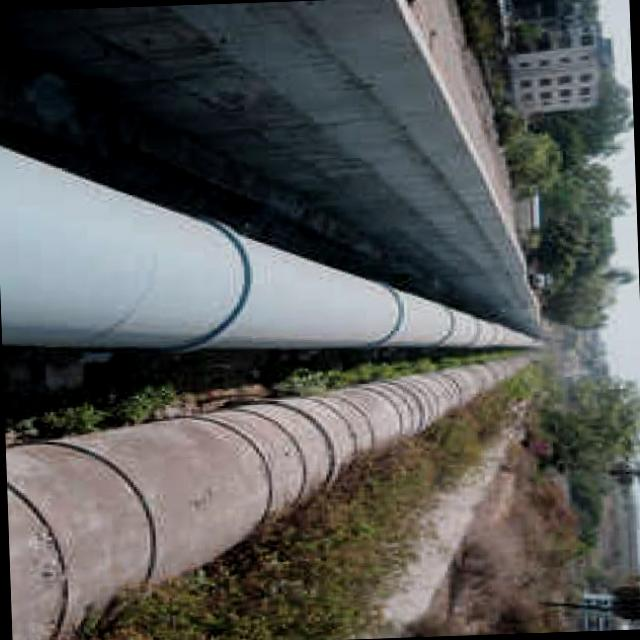gas: (4, 358, 527, 640), (0, 146, 537, 350)
